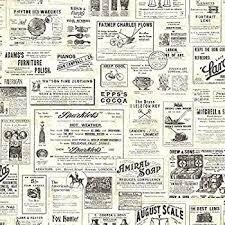Printing industry: (2, 2, 225, 225)
